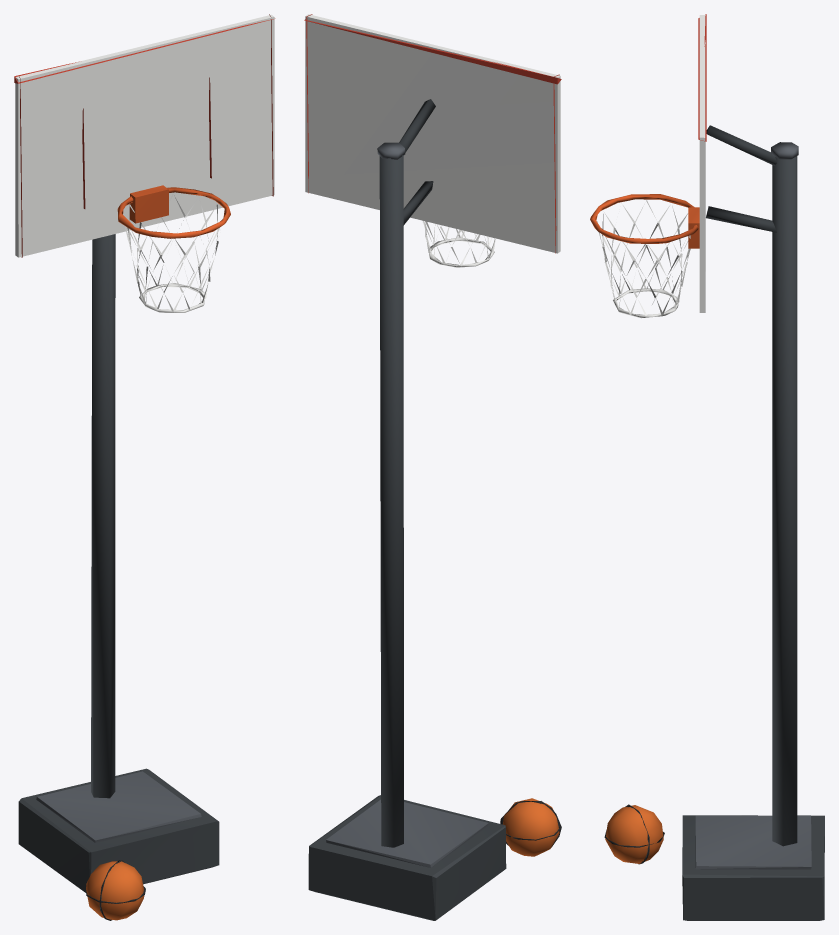
The model's file is basketballHoop.far.glb.
The picture shows the model from 3 angles, left to right: view 1: azimuth 30°, elevation 25°; view 2: azimuth 150°, elevation 25°; view 3: azimuth 270°, elevation 25°; orthographic projection.
Visible parts, largest first — view 1: basketballHoop_far; view 2: basketballHoop_far; view 3: basketballHoop_far.
Part boxes in pixels (left/top/right/bottom): basketballHoop_far: left=14, top=14, right=275, bottom=920; basketballHoop_far: left=304, top=14, right=561, bottom=920; basketballHoop_far: left=590, top=14, right=824, bottom=920.
Bounding box in the file's own units: 1.2 × 3.71 × 0.9651.
